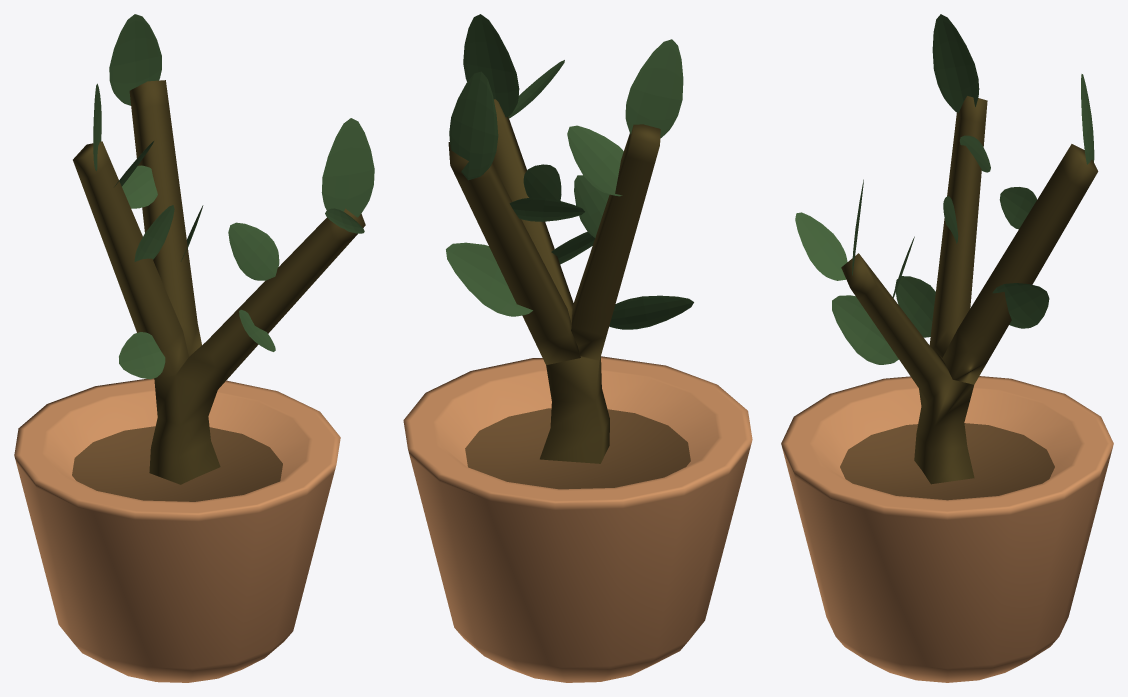
Rendered from plant 1.fbx.
3 views of the same model, side by side, from view 1: azimuth 30°, elevation 25°; view 2: azimuth 150°, elevation 25°; view 3: azimuth 270°, elevation 25° (orthographic). The views are drawn at different scales.
Visible parts, largest first — view 1: plant 1; view 2: plant 1; view 3: plant 1.
Part boxes in pixels (x1=…): plant 1: x1=14, y1=14, x2=374, y2=682; plant 1: x1=403, y1=14, x2=752, y2=682; plant 1: x1=781, y1=14, x2=1113, y2=682.
Bounding box in the file's own units: 3.05 × 5.79 × 2.95.
